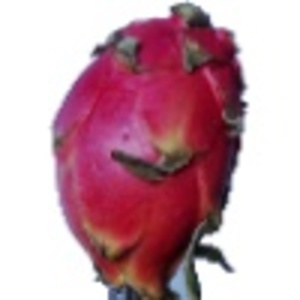pitaia: (51, 1, 249, 300)
